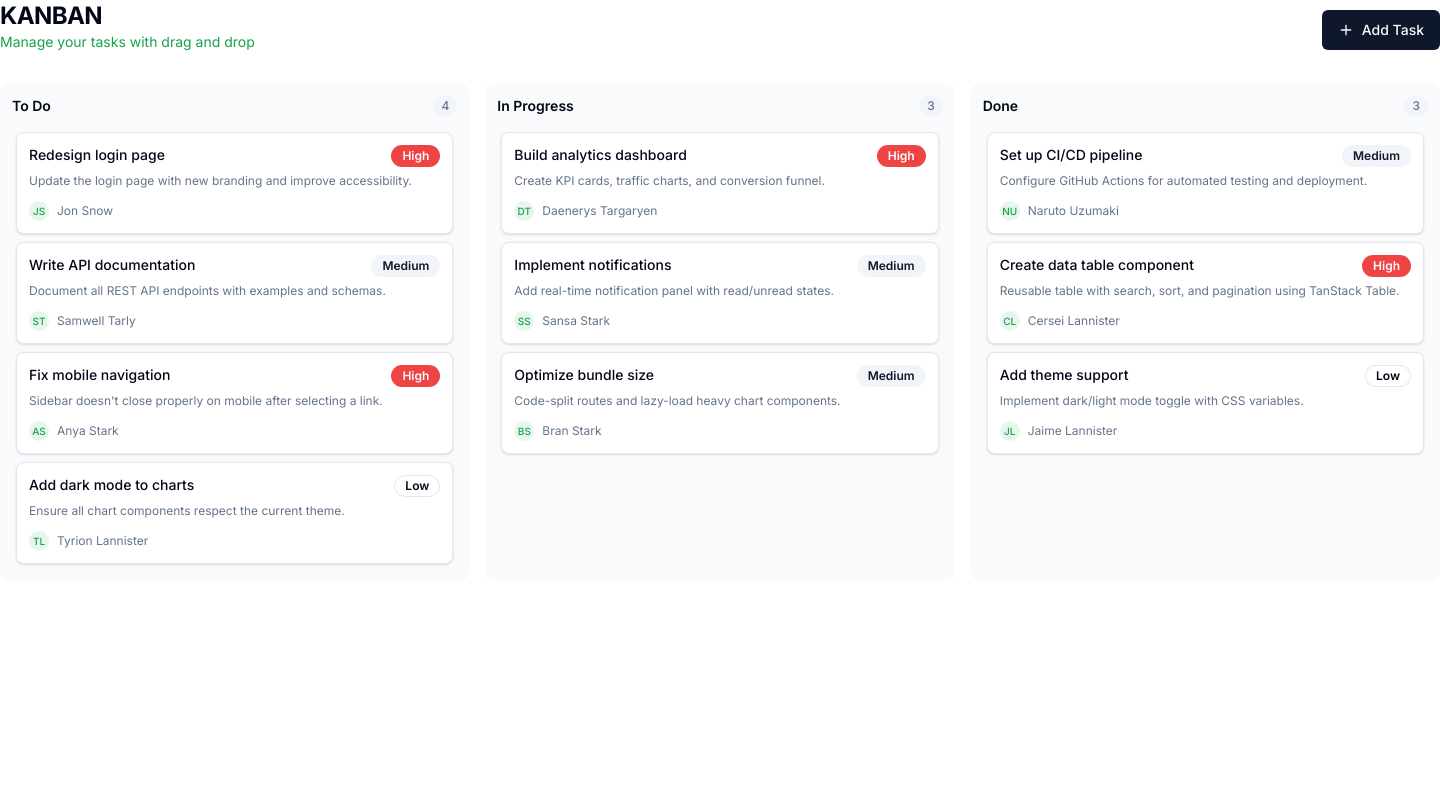
Test case: KanbanPage › requires a title before creating a task
Click the button "Add Task": (1381, 30) [1322, 10, 1439, 50]
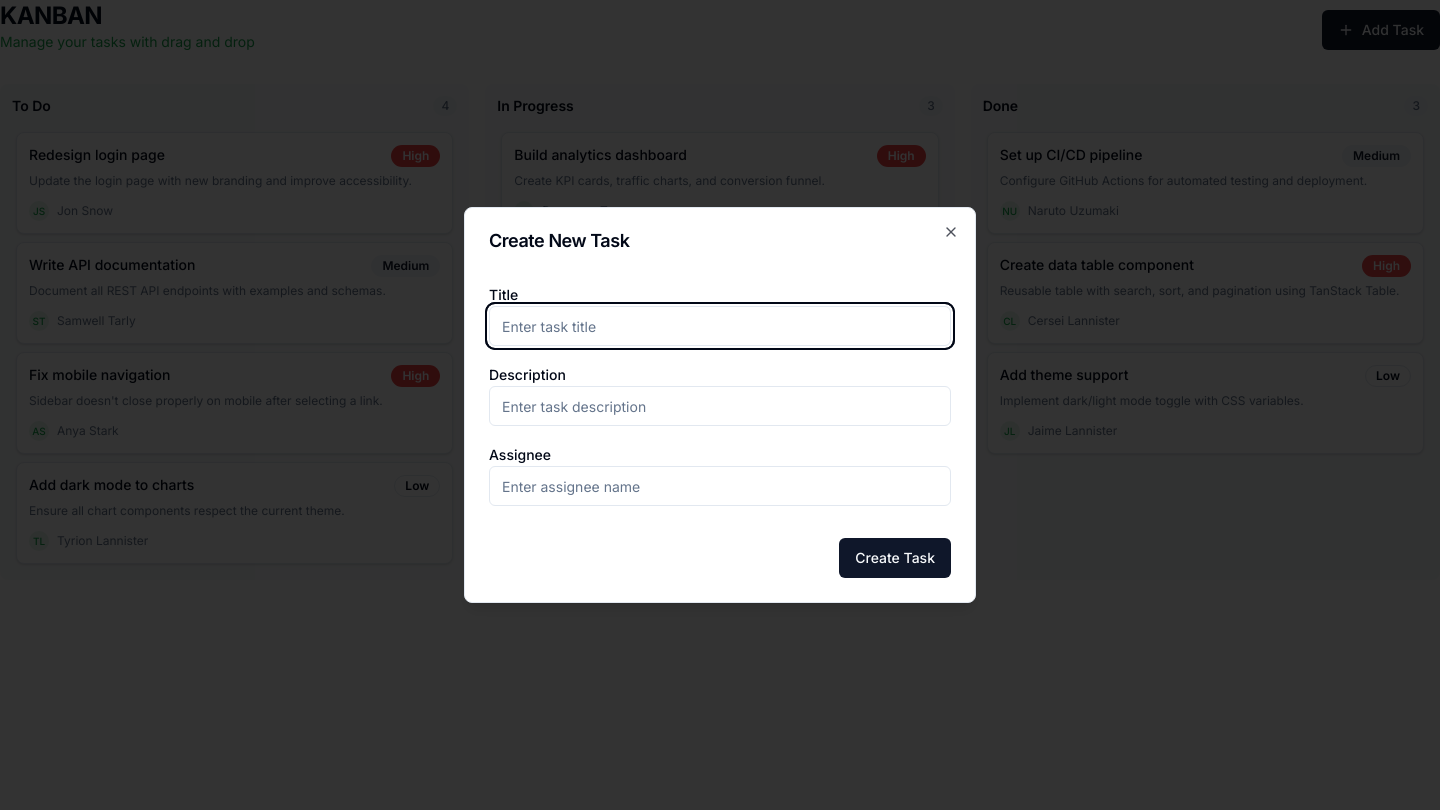
Now the heading "Create New Task" is shown, box [489, 230, 630, 251]
Click the button "Create Task": (895, 558) [839, 538, 951, 578]
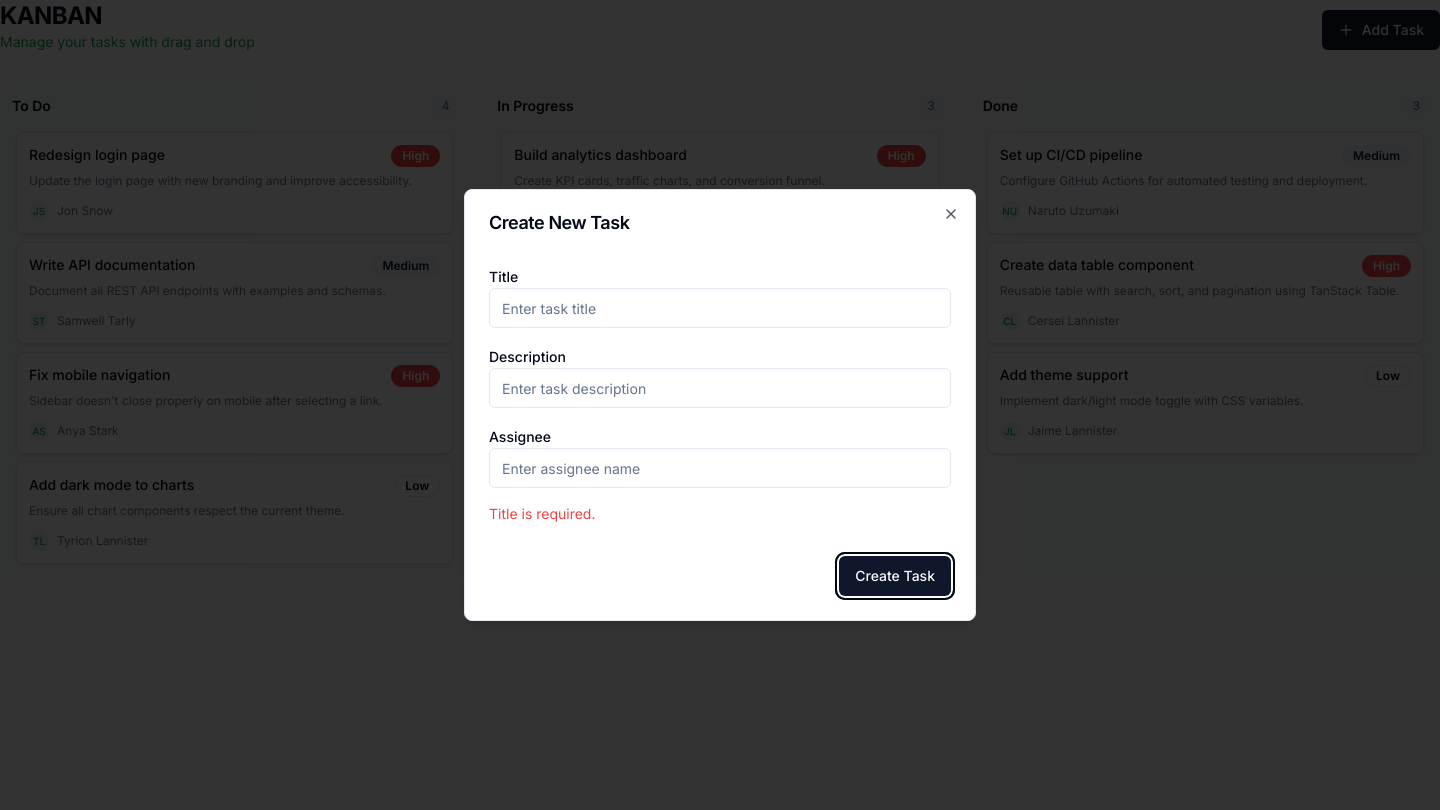
Now the message reads "Title is required.", box [489, 505, 596, 522]
